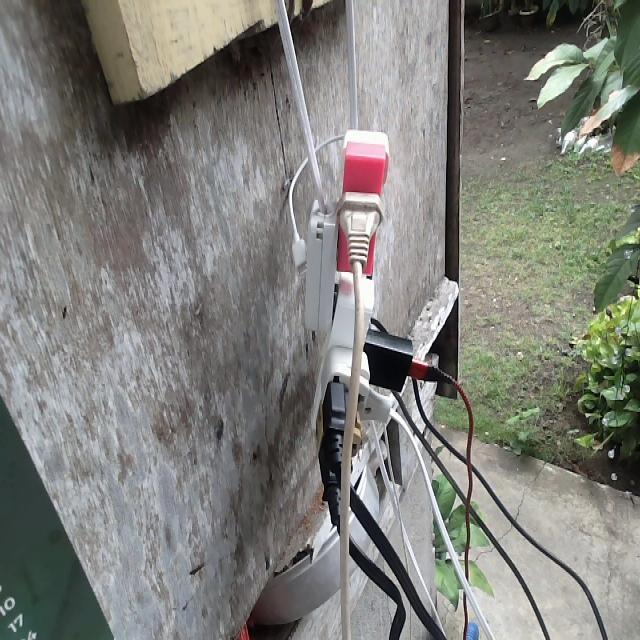-: (298, 125, 430, 480)
